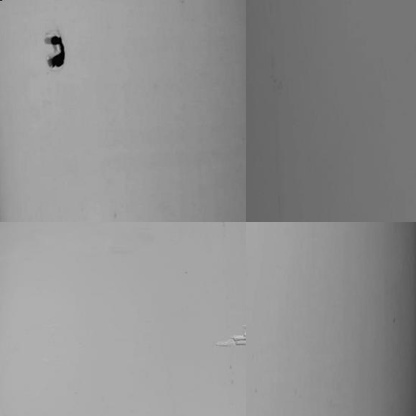kongdong: (43, 28, 73, 75)
sunshang: (210, 320, 247, 349)
